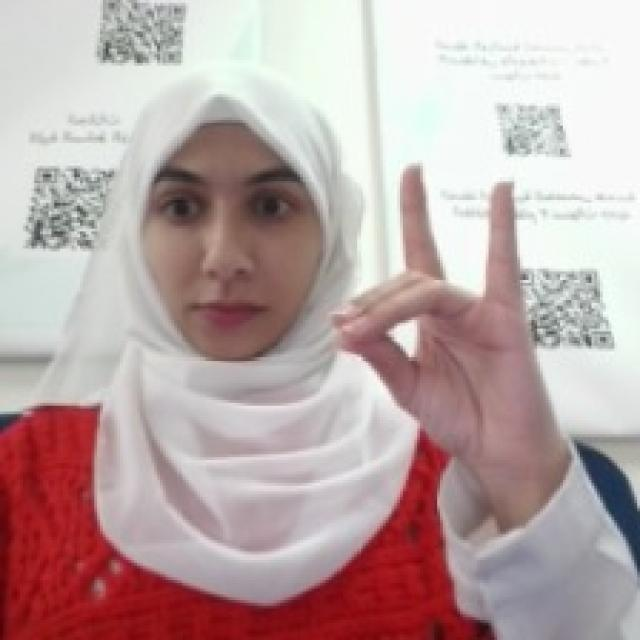Dog: (328, 157, 552, 466)
